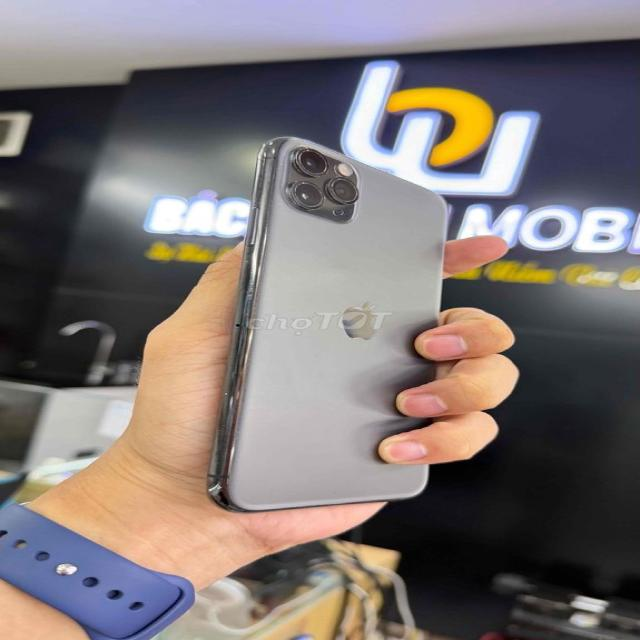scratch: (235, 269, 260, 376), (218, 389, 263, 408), (211, 417, 238, 439)
